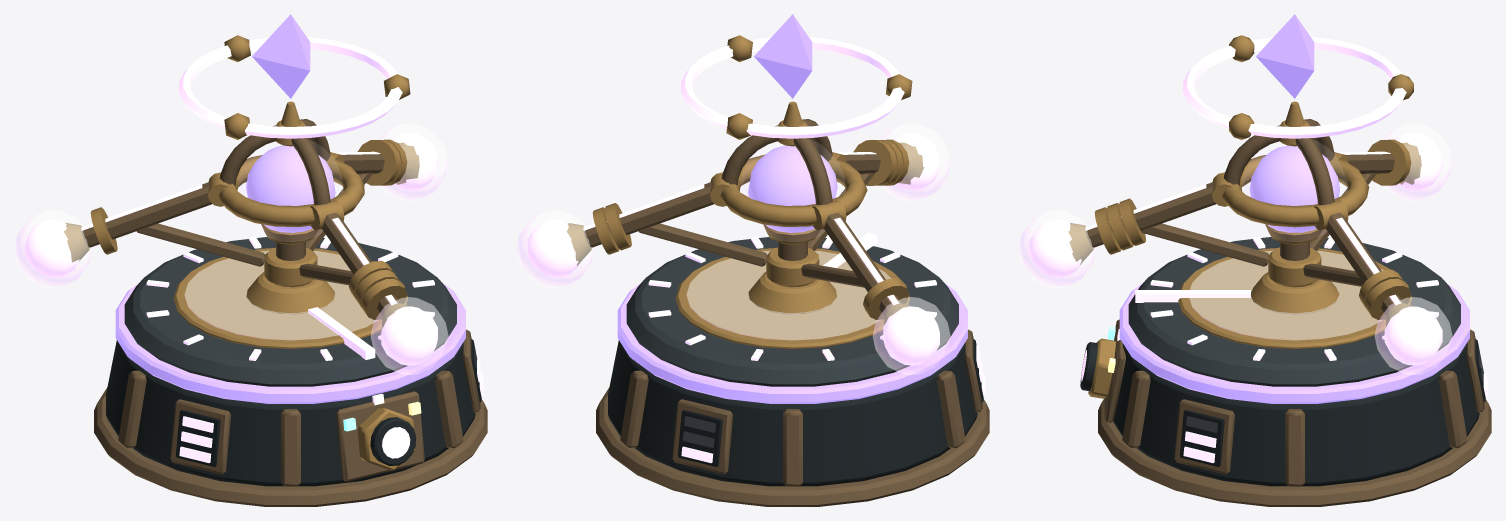
File: balancer.glb
3 renders of one model, left to right at view 1: azimuth 30°, elevation 25°; view 2: azimuth 150°, elevation 25°; view 3: azimuth 270°, elevation 25°, orthographic.
Parts seen in each view (by area): view 1: body_metal_brass, body_metal_dark, body_metal_graphite, body_metal_brass_bright, arms_role_glow_soft, arms_metal_brass_bright, body_role_luminous, arms_metal_brass, body_role_glow_soft, arms_role_glow, crown_role_glow, body_role_glow (+3 smaller); view 2: body_metal_dark, body_metal_brass, body_metal_graphite, body_metal_brass_bright, arms_role_glow_soft, arms_metal_brass_bright, body_role_luminous, arms_metal_brass, body_role_glow_soft, arms_role_glow, crown_role_glow, crest (+3 smaller); view 3: body_metal_dark, body_metal_brass, body_metal_graphite, body_metal_brass_bright, arms_role_glow_soft, arms_metal_brass_bright, body_role_luminous, arms_metal_brass, body_role_glow_soft, arms_role_glow, crown_role_glow, body_role_glow (+3 smaller).
Part boxes in pixels (x1=…): body_metal_brass: x1=94, y1=242, x2=487, y2=506; body_metal_dark: x1=106, y1=340, x2=475, y2=486; body_metal_graphite: x1=124, y1=237, x2=456, y2=386; body_metal_brass_bright: x1=173, y1=224, x2=415, y2=470; arms_role_glow_soft: x1=14, y1=123, x2=448, y2=374; arms_metal_brass_bright: x1=64, y1=101, x2=419, y2=328; body_role_luminous: x1=115, y1=145, x2=465, y2=403; arms_metal_brass: x1=81, y1=119, x2=399, y2=315; body_role_glow_soft: x1=184, y1=250, x2=377, y2=340; arms_role_glow: x1=25, y1=132, x2=437, y2=365; crown_role_glow: x1=179, y1=37, x2=402, y2=138; body_role_glow: x1=146, y1=236, x2=483, y2=462; body_metal_dark: x1=608, y1=340, x2=977, y2=486; body_metal_brass: x1=596, y1=242, x2=989, y2=506; body_metal_graphite: x1=626, y1=237, x2=958, y2=386; body_metal_brass_bright: x1=675, y1=224, x2=909, y2=349; arms_role_glow_soft: x1=516, y1=123, x2=950, y2=374; arms_metal_brass_bright: x1=567, y1=101, x2=924, y2=325; body_role_luminous: x1=617, y1=145, x2=967, y2=403; arms_metal_brass: x1=583, y1=119, x2=901, y2=315; body_role_glow_soft: x1=686, y1=250, x2=891, y2=340; arms_role_glow: x1=527, y1=132, x2=939, y2=365; crown_role_glow: x1=681, y1=37, x2=904, y2=138; crest: x1=754, y1=14, x2=812, y2=98; body_metal_dark: x1=1080, y1=342, x2=1479, y2=486; body_metal_brass: x1=1098, y1=242, x2=1491, y2=506; body_metal_graphite: x1=1128, y1=237, x2=1460, y2=386; body_metal_brass_bright: x1=1088, y1=224, x2=1411, y2=398; arms_role_glow_soft: x1=1018, y1=123, x2=1452, y2=374; arms_metal_brass_bright: x1=1068, y1=101, x2=1421, y2=326; body_role_luminous: x1=1119, y1=145, x2=1469, y2=403; arms_metal_brass: x1=1085, y1=119, x2=1403, y2=315; body_role_glow_soft: x1=1189, y1=250, x2=1382, y2=340; arms_role_glow: x1=1028, y1=132, x2=1442, y2=365; crown_role_glow: x1=1183, y1=37, x2=1406, y2=138; body_role_glow: x1=1081, y1=236, x2=1487, y2=462.
Size of the model in its own units: 1.57 by 1.45 by 1.52.
